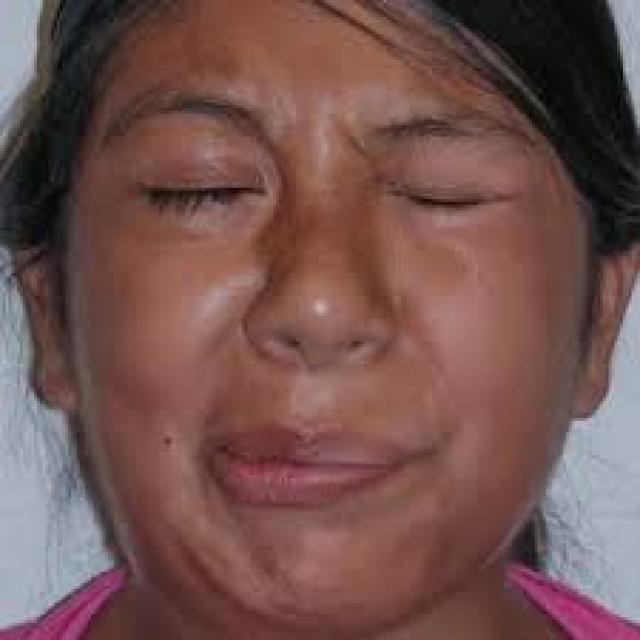stroke_face: (39, 2, 640, 640)
